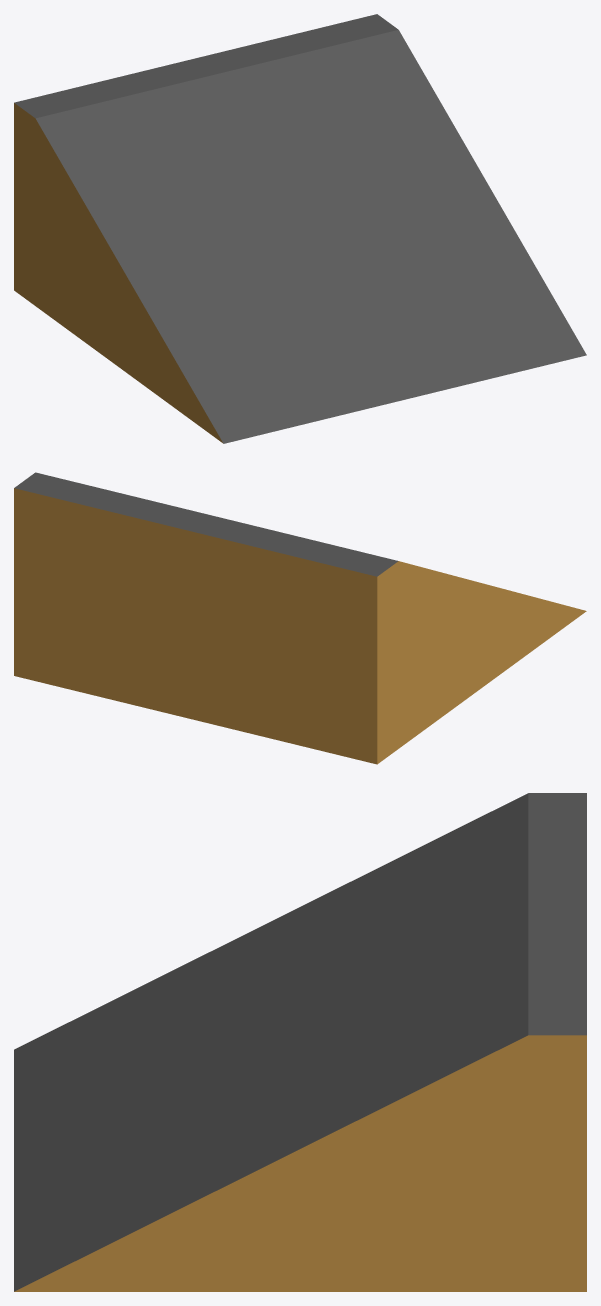
File: Skate_Wedge_01.FBX
The picture shows the model from 3 angles, top to bottom: view 1: azimuth 30°, elevation 25°; view 2: azimuth 150°, elevation 25°; view 3: azimuth 270°, elevation 25°; orthographic projection. The views are drawn at different scales.
Parts seen in each view (by area): view 1: Skate_Wedge_01; view 2: Skate_Wedge_01; view 3: Skate_Wedge_01.
Part boxes in pixels (x1,y1,x2,y2): Skate_Wedge_01: (14, 14, 586, 443); Skate_Wedge_01: (14, 472, 586, 764); Skate_Wedge_01: (14, 793, 586, 1291).
Bounding box in the file's own units: 3 × 1.48 × 3.
